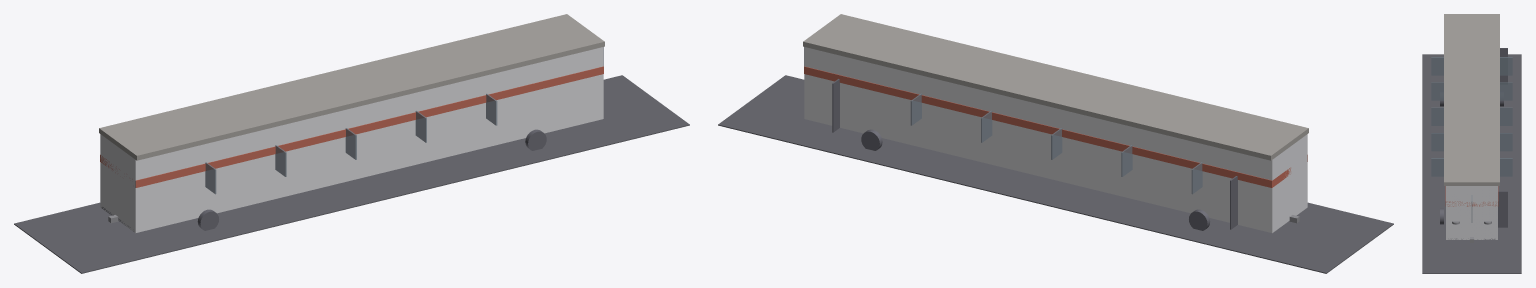
File: subway_train_car.glb
3 renders of one model, left to right at view 1: azimuth 30°, elevation 25°; view 2: azimuth 150°, elevation 25°; view 3: azimuth 270°, elevation 25°, orthographic. The views are drawn at different scales.
Visible parts, largest first — view 1: body, ground, roof, stripe; view 2: body, ground, roof, stripe; view 3: ground, roof, body, door_l_2_open, door_l_1_open, win_l_1, win_l_2, win_l_3, win_l_4, win_l_5, win_r_1, win_r_2 (+4 smaller).
Part boxes in pixels (box(x1,y1,x2,y2)): body: box(100, 47, 603, 233); ground: box(14, 75, 689, 273); roof: box(99, 14, 604, 160); stripe: box(100, 66, 603, 187); body: box(804, 47, 1307, 233); ground: box(718, 75, 1393, 273); roof: box(803, 14, 1308, 160); stripe: box(804, 66, 1307, 187); ground: box(1422, 54, 1521, 273); roof: box(1444, 14, 1499, 185); body: box(1446, 186, 1497, 239); door_l_2_open: box(1498, 191, 1507, 227); door_l_1_open: box(1500, 48, 1507, 84); win_l_1: box(1500, 57, 1512, 75); win_l_2: box(1500, 82, 1512, 100); win_l_3: box(1500, 107, 1512, 125); win_l_4: box(1500, 133, 1512, 151); win_l_5: box(1500, 158, 1512, 176); win_r_1: box(1431, 57, 1443, 75); win_r_2: box(1431, 82, 1443, 100).
Size of the model in its own units: 26 by 3.7 by 5.
